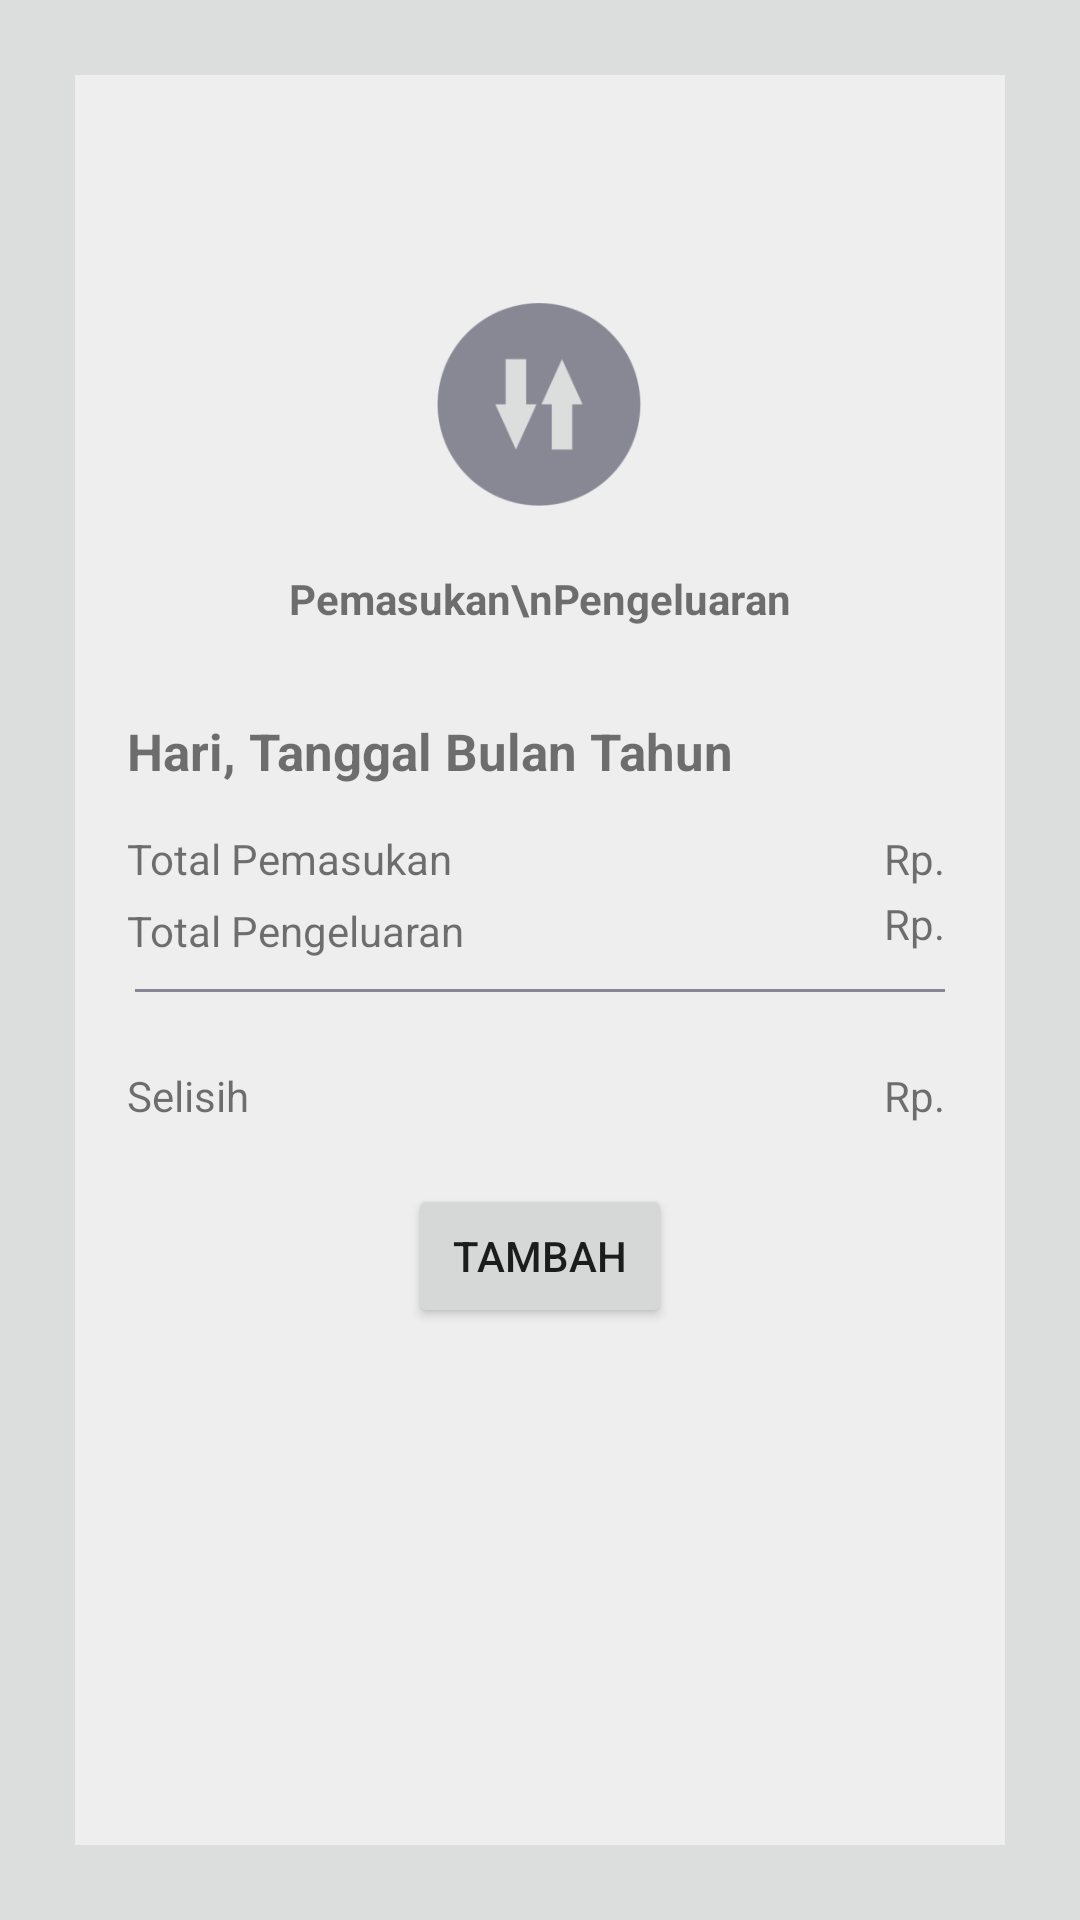

Where icons sit on this 1080px x 1920px app screen, as (x1, y1, x2, y2):
inout: (437, 303, 641, 506)
